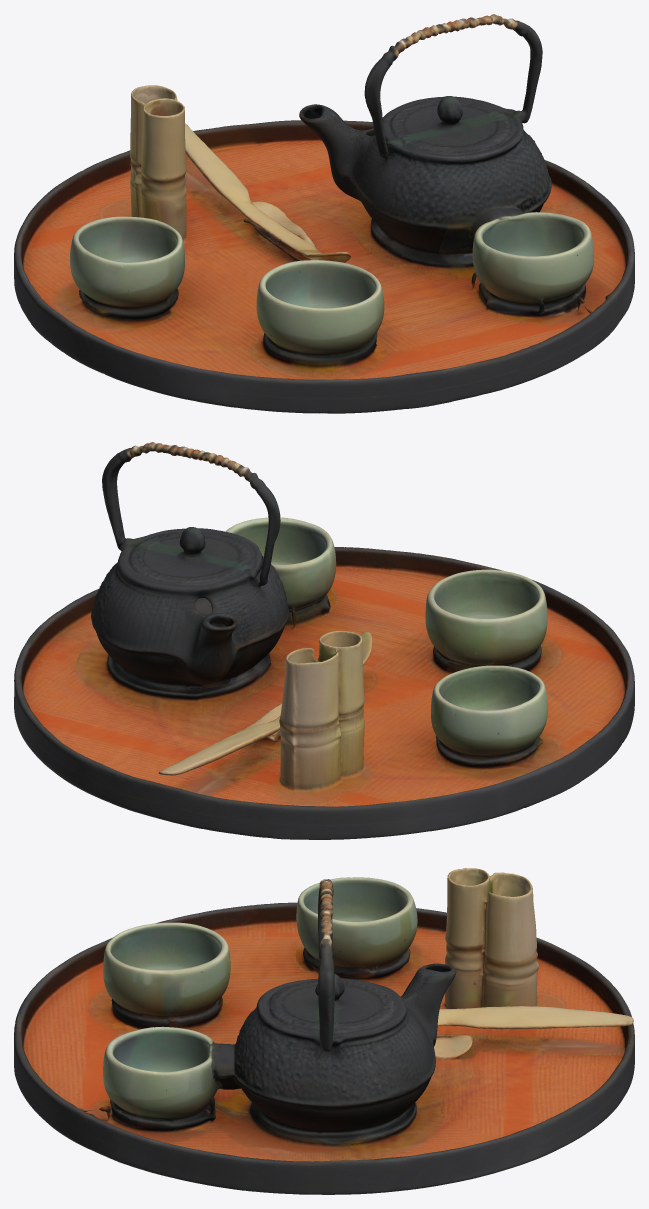
The model's file is teaset.glb.
3 views of the same model, one above another, from view 1: azimuth 30°, elevation 25°; view 2: azimuth 150°, elevation 25°; view 3: azimuth 270°, elevation 25° (orthographic).
Parts seen in each view (by area): view 1: Mesh_0; view 2: Mesh_0; view 3: Mesh_0.
Boxes of the visible parts, x1,y1,x2,y2 form: Mesh_0: [14, 14, 634, 413]; Mesh_0: [14, 442, 634, 839]; Mesh_0: [14, 868, 634, 1194].
Bounding box in the file's own units: 2 × 0.819 × 2.
Materials: 1 (1 with a texture image).
